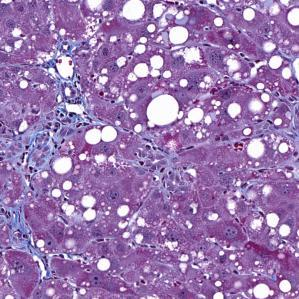fibrosis: (12, 115, 89, 169)
